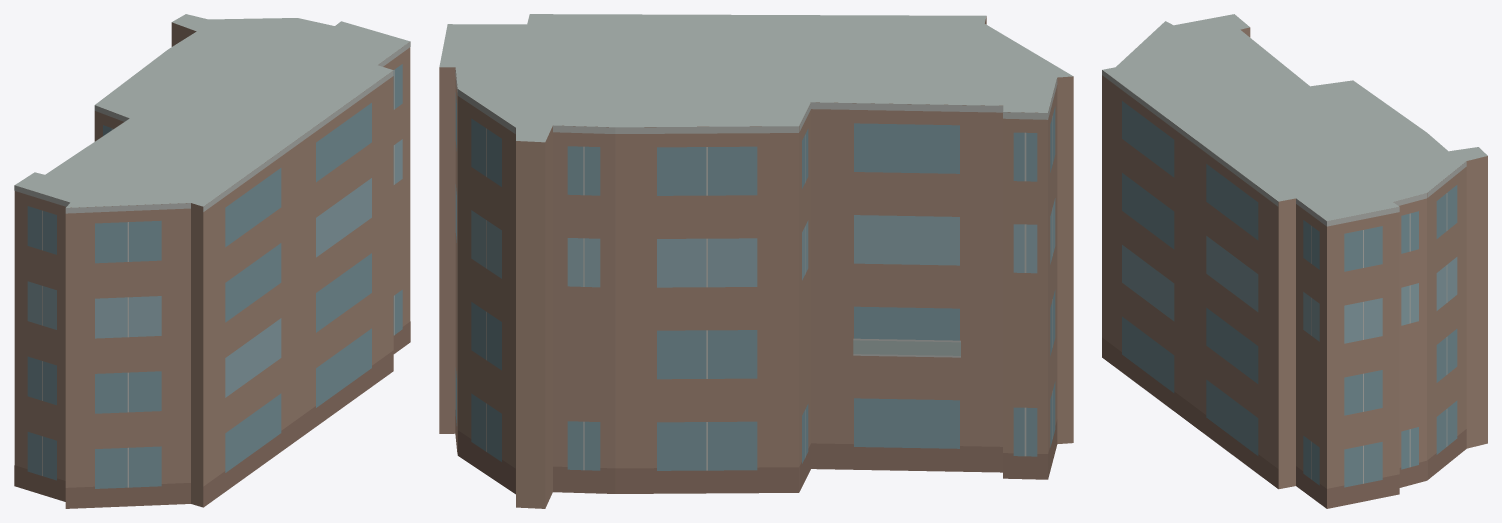
The model's file is survey-upis-33017583.glb.
3 views of the same model, side by side, from view 1: azimuth 30°, elevation 25°; view 2: azimuth 150°, elevation 25°; view 3: azimuth 270°, elevation 25° (orthographic). The views are drawn at different scales.
Parts seen in each view (by area): view 1: survey-upis-33017583.tmp; view 2: survey-upis-33017583.tmp; view 3: survey-upis-33017583.tmp.
Part boxes in pixels (<box>): survey-upis-33017583.tmp: <box>14,14,410,508</box>; survey-upis-33017583.tmp: <box>439,14,1073,508</box>; survey-upis-33017583.tmp: <box>1102,14,1487,508</box>.
Bounding box in the file's own units: 20.25 × 13.1 × 15.93.
